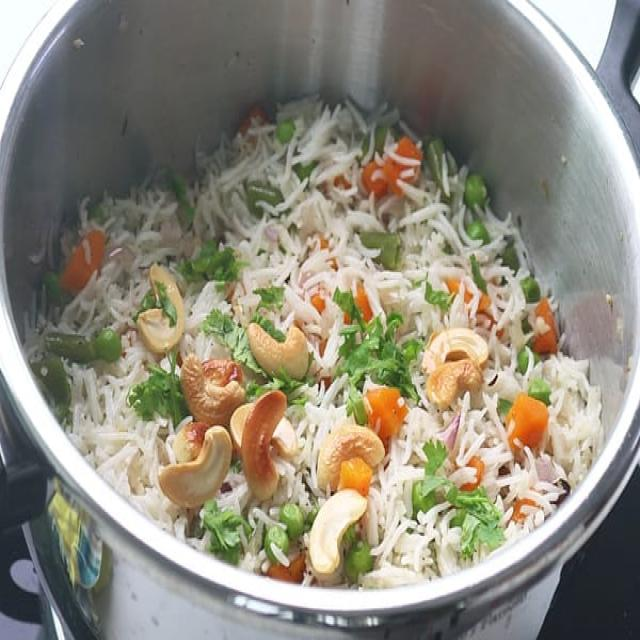veg palav: (23, 70, 639, 624)
